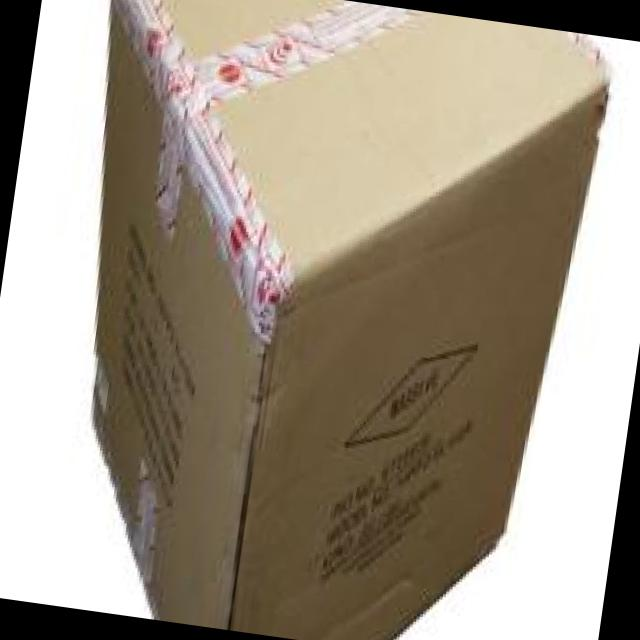box: (89, 0, 614, 640)
